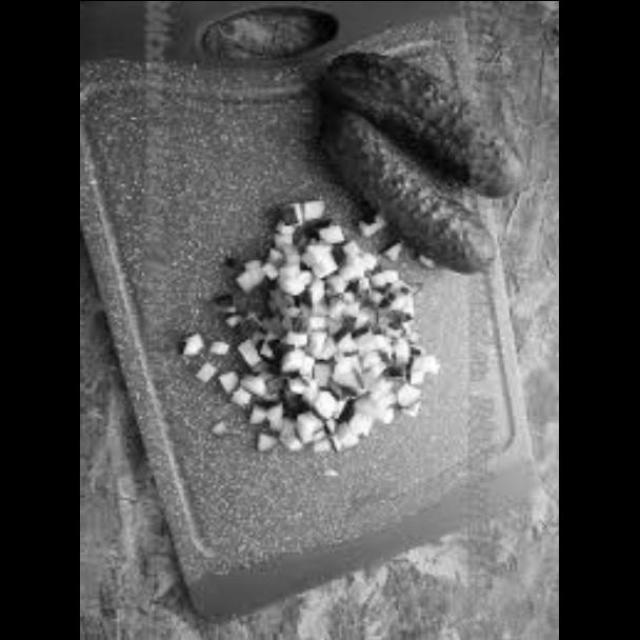dua chuot: (180, 188, 440, 456), (313, 49, 542, 199), (323, 108, 513, 284)
